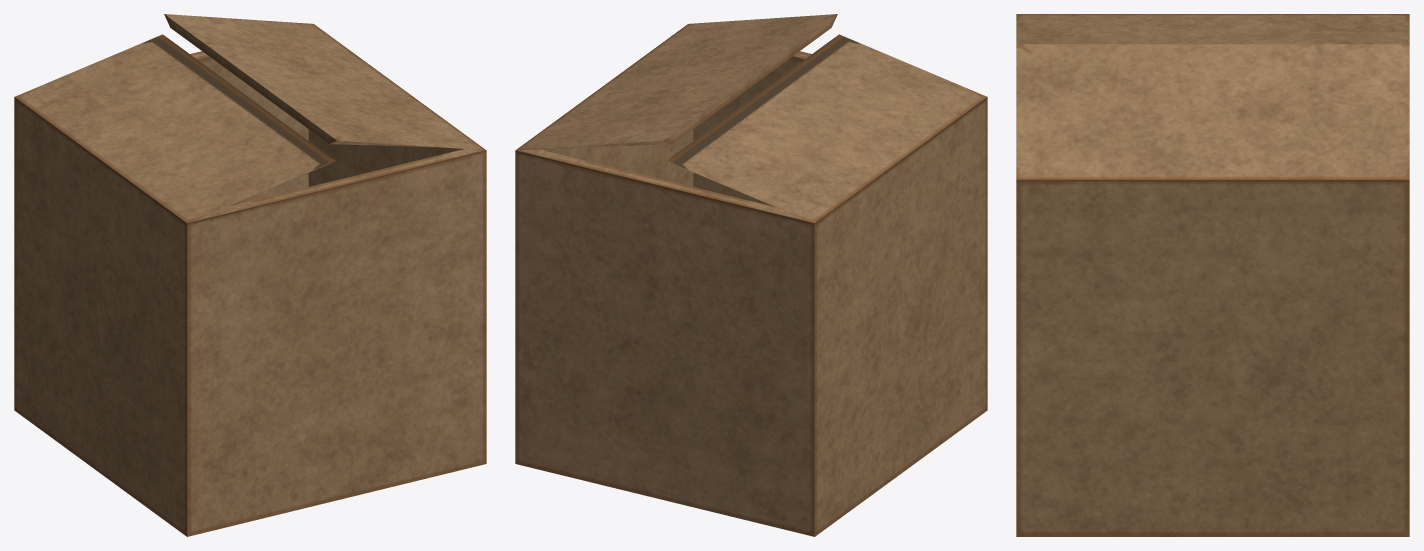
The model's file is CardboardBoxOpen.fbx.
3 renders of one model, left to right at view 1: azimuth 30°, elevation 25°; view 2: azimuth 150°, elevation 25°; view 3: azimuth 270°, elevation 25°, orthographic. The views are drawn at different scales.
Visible parts, largest first — view 1: CardboardBoxOpen; view 2: CardboardBoxOpen; view 3: CardboardBoxOpen.
Boxes of the visible parts, x1=… form: CardboardBoxOpen: x1=14, y1=14, x2=486, y2=536; CardboardBoxOpen: x1=515, y1=14, x2=987, y2=536; CardboardBoxOpen: x1=1016, y1=14, x2=1409, y2=536.
Size of the model in its own units: 0.6 by 0.6 by 0.6889.
